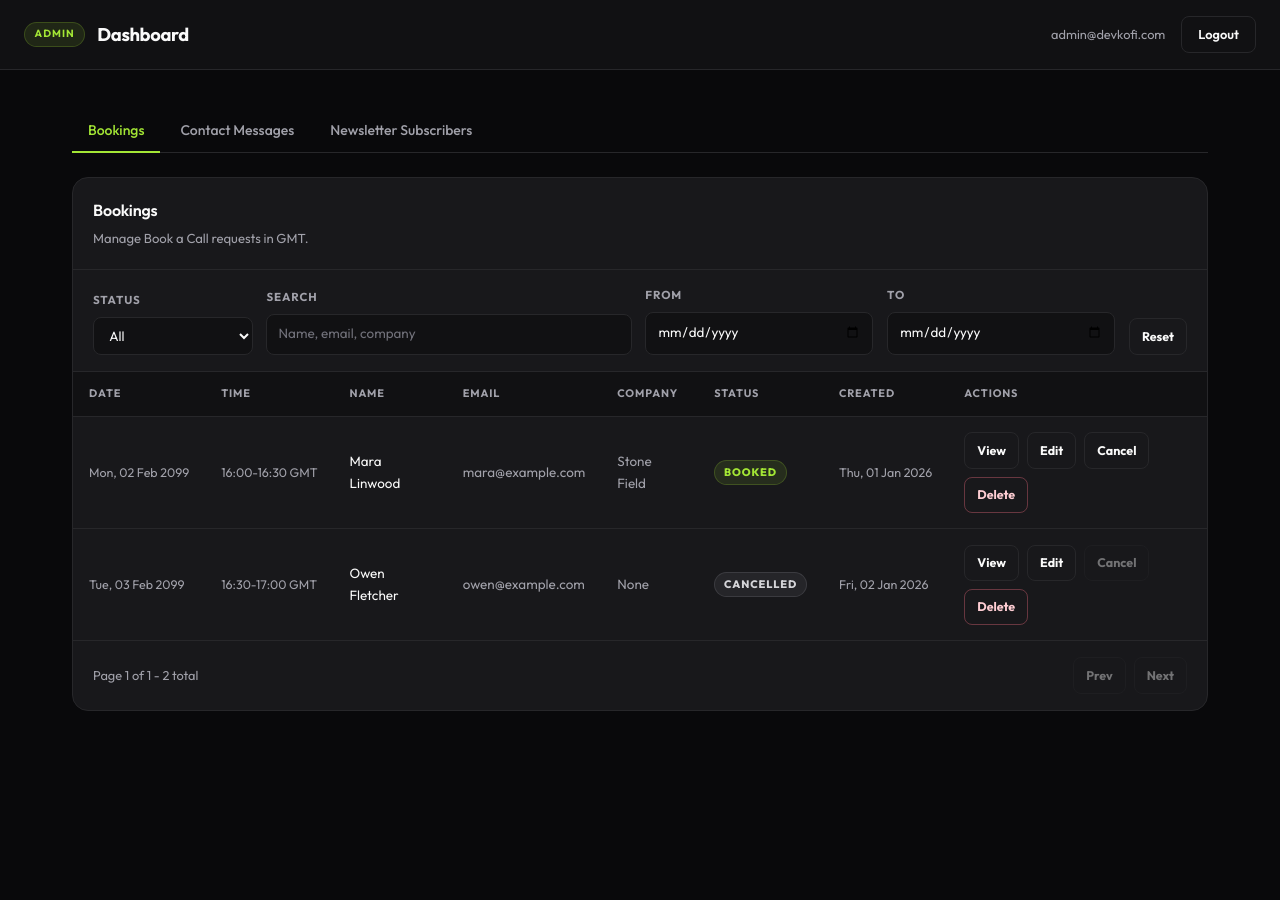
Test case: AdminDashboard Newsletter Subscribers tab › renders subscribers from mock data
What coordinates should you click on to do the following:
click the tab "Newsletter Subscribers"
I would click on:
 (401, 132)
Its box is [314,110,488,153].
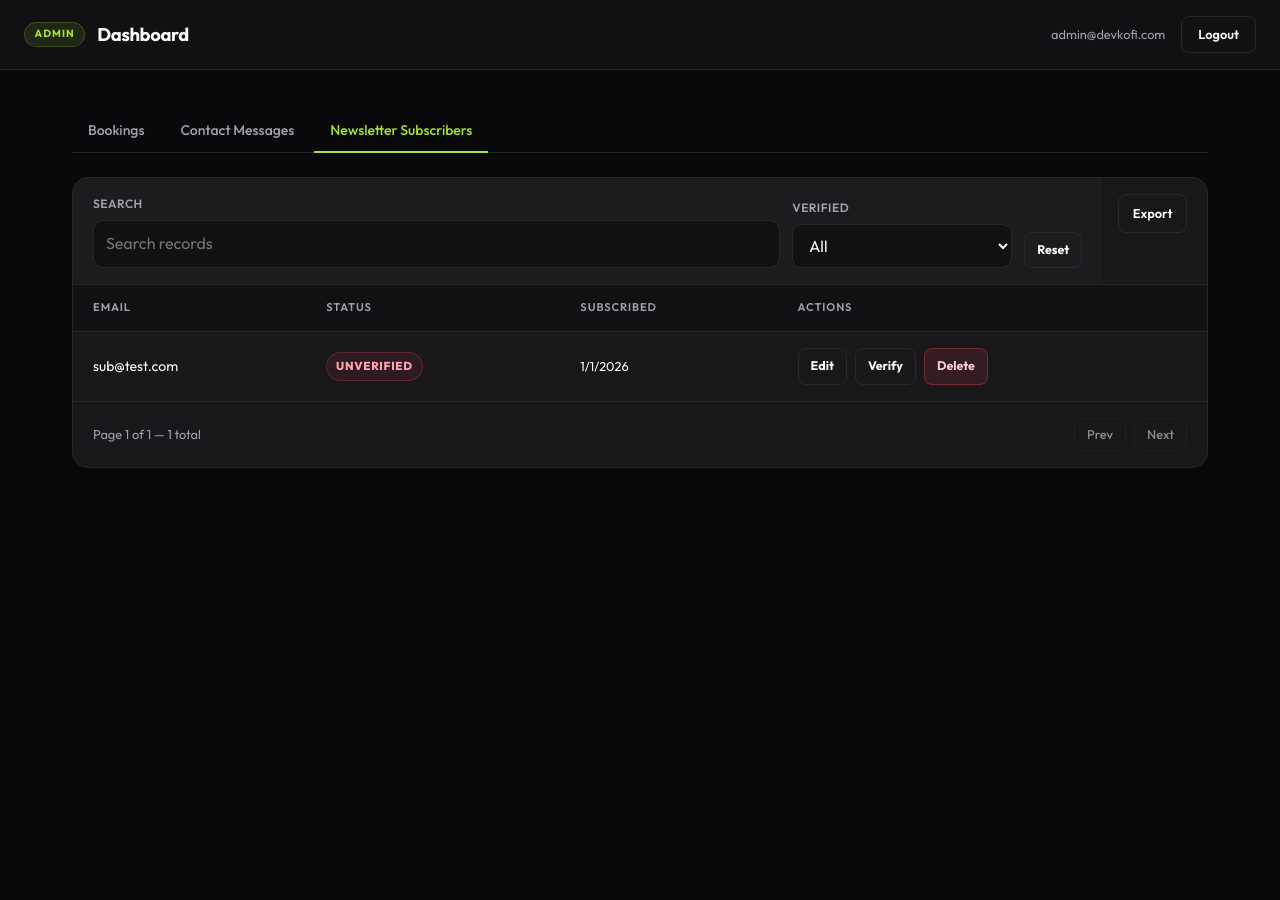
expect the text "sub@test.com" is shown: met, box [73,332,306,401]
